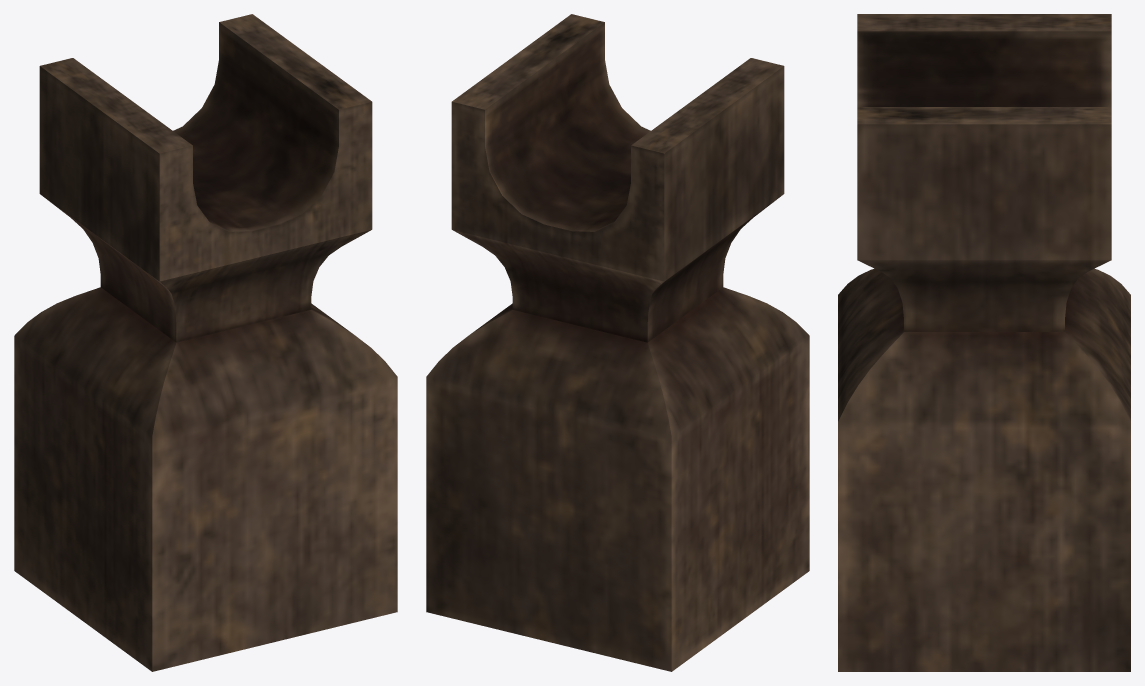
File: SM_Fence_01.fbx
3 renders of one model, left to right at view 1: azimuth 30°, elevation 25°; view 2: azimuth 150°, elevation 25°; view 3: azimuth 270°, elevation 25°, orthographic. The views are drawn at different scales.
Visible parts, largest first — view 1: SM_Fence_01_LOD0; view 2: SM_Fence_01_LOD0; view 3: SM_Fence_01_LOD0.
Part boxes in pixels (x1,y1,x2,y2): SM_Fence_01_LOD0: (14, 14, 397, 671); SM_Fence_01_LOD0: (426, 14, 809, 671); SM_Fence_01_LOD0: (838, 14, 1130, 671).
Bounding box in the file's own units: 15.75 × 15.34 × 31.17.
